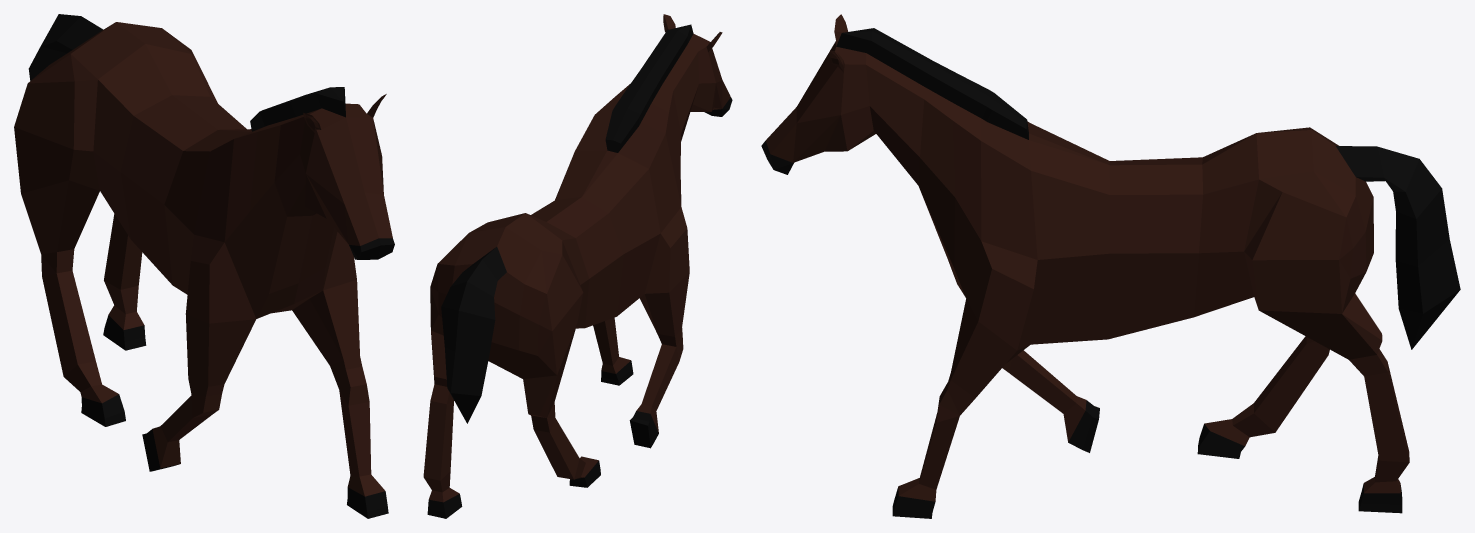
File: Horse_000003.obj
3 renders of one model, left to right at view 1: azimuth 30°, elevation 25°; view 2: azimuth 150°, elevation 25°; view 3: azimuth 270°, elevation 25°, orthographic. The views are drawn at different scales.
Visible parts, largest first — view 1: Horse_Cylinder; view 2: Horse_Cylinder; view 3: Horse_Cylinder.
Part boxes in pixels (x1=…): Horse_Cylinder: x1=14, y1=14, x2=394, y2=518; Horse_Cylinder: x1=423, y1=14, x2=732, y2=518; Horse_Cylinder: x1=761, y1=14, x2=1460, y2=518.
Size of the model in its own units: 2.55 by 6.66 by 9.31.
